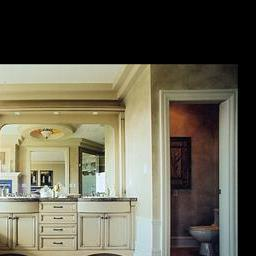Sanitario: (185, 206, 216, 256)
